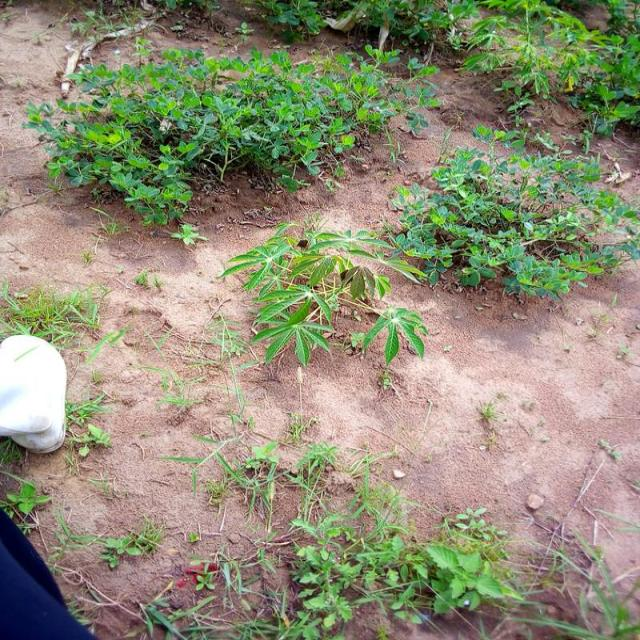cassava leaf: (1, 333, 69, 454)
